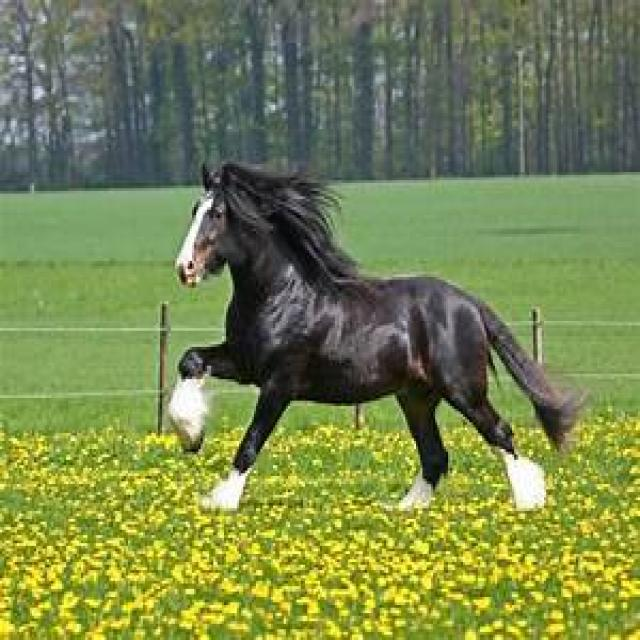horse: (169, 162, 584, 509)
